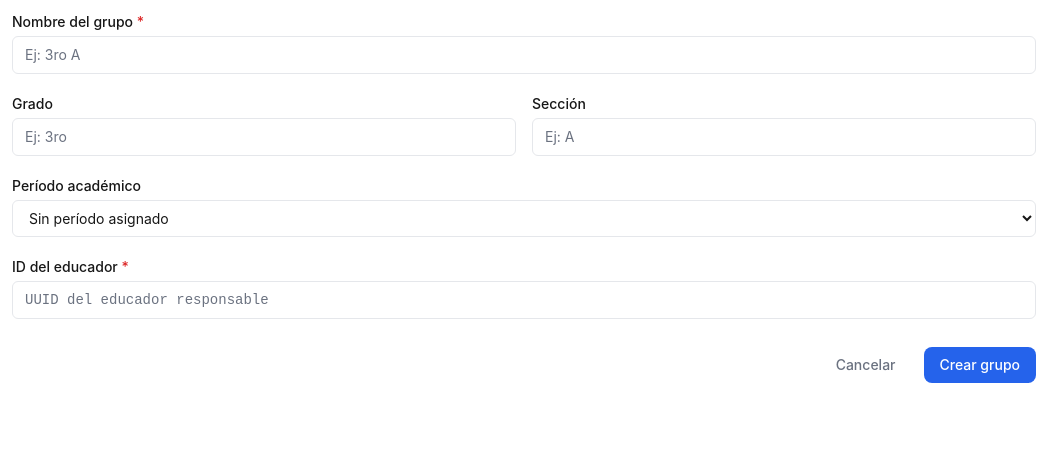
GrupoForm › debería mostrar error de API cuando falla la creación
This screenshot has width=1048, height=466.
Type "3ro A" into the field labelled "Nombre del grupo *" at [524, 55], box [12,36,1036,74]
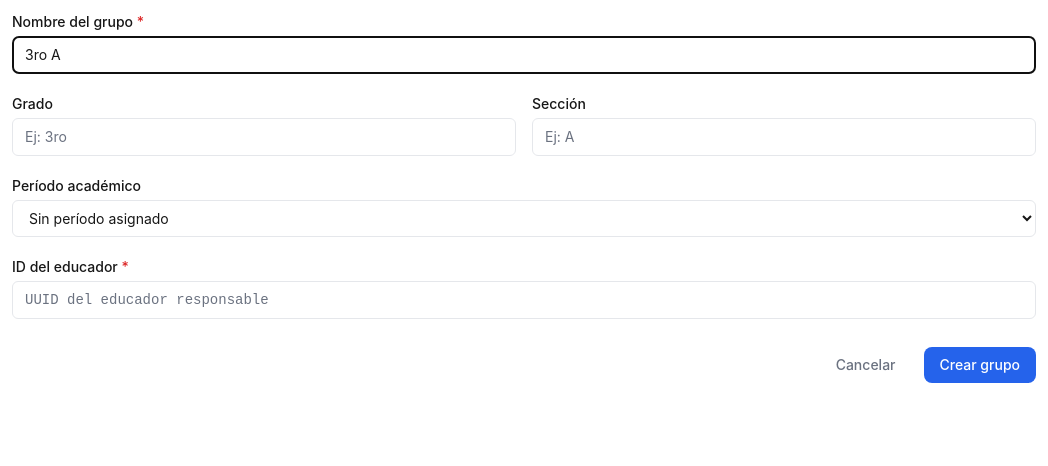
Select "2025 - Primer Semestre" in the dropdown labelled "Período académico" at [524, 218], box [12,200,1036,237]
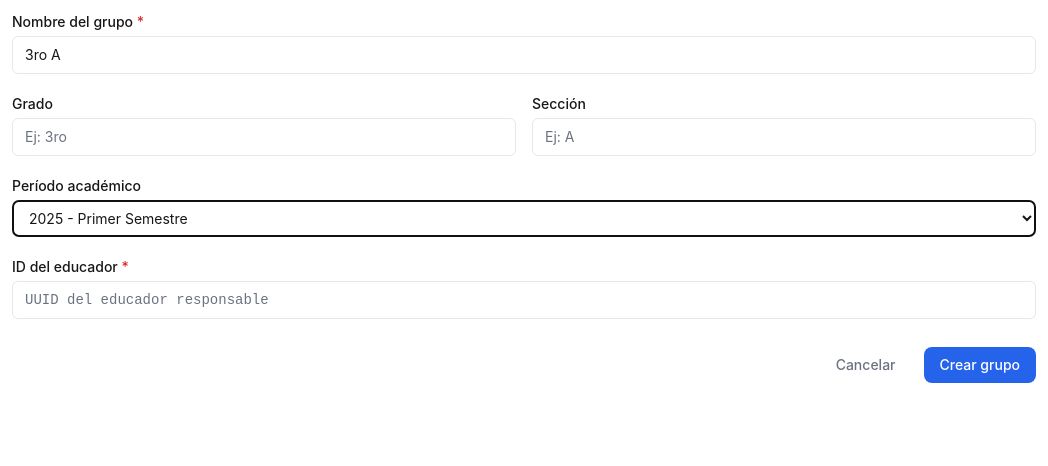
Type "educador-invalido" into the field labelled "ID del educador *" at [524, 300], box [12,281,1036,319]
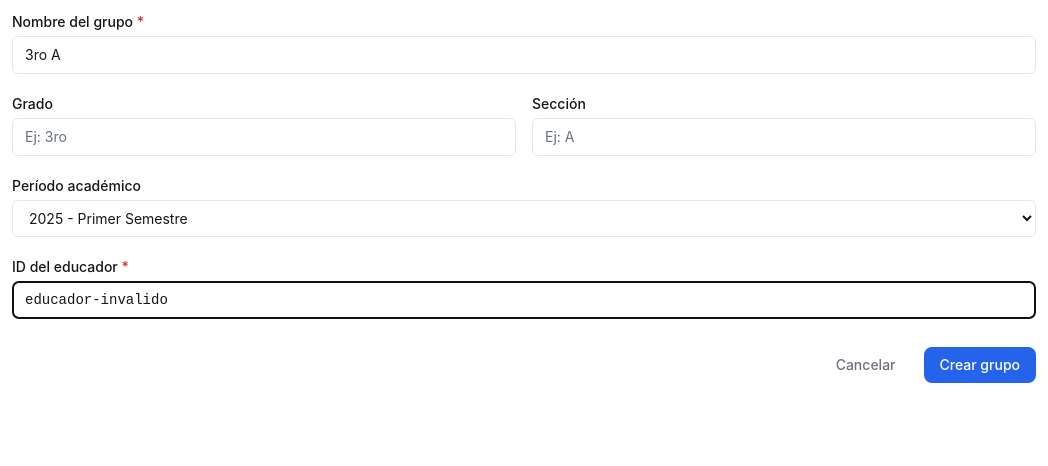
Click the button "Crear grupo" at [980, 365], box [924,347,1036,383]
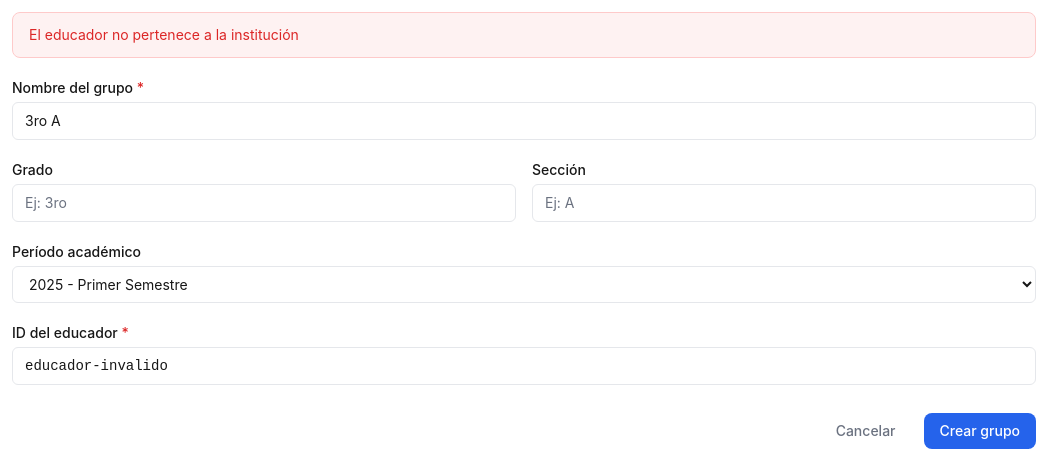
Result: the text "El educador no pertenece a la institución" is shown at [12,12,1036,58]
